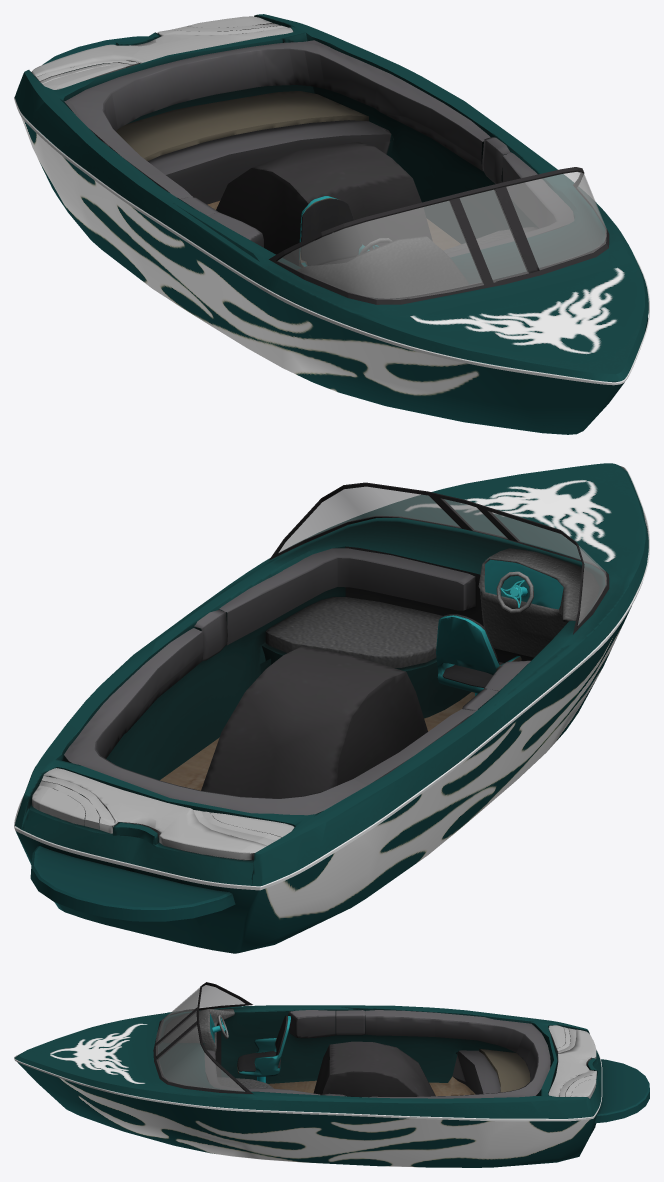
Rendered from Speed_Boat_02_V02.fbx.
3 views of the same model, one above another, from view 1: azimuth 30°, elevation 25°; view 2: azimuth 150°, elevation 25°; view 3: azimuth 270°, elevation 25° (orthographic). The views are drawn at different scales.
Parts seen in each view (by area): view 1: Speed_Boat_02_Body; view 2: Speed_Boat_02_Body, Speed_Boat_02_Steering; view 3: Speed_Boat_02_Body.
Boxes of the visible parts, x1,y1,x2,y2 form: Speed_Boat_02_Body: (14, 14, 649, 434); Speed_Boat_02_Body: (14, 463, 649, 953); Speed_Boat_02_Steering: (496, 571, 533, 613); Speed_Boat_02_Body: (14, 982, 649, 1167).
Size of the model in its own units: 300 by 181 by 813.
